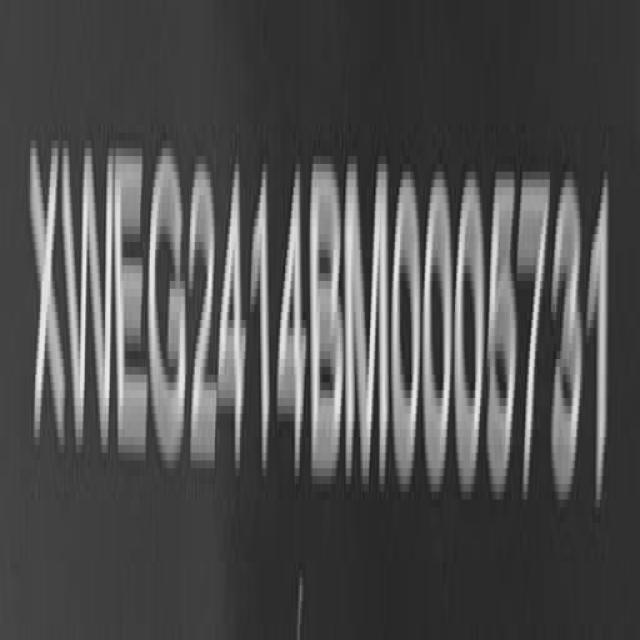0: (392, 155, 424, 495), (451, 166, 483, 505), (422, 163, 454, 501)
1: (589, 168, 615, 520), (250, 155, 274, 487)
2: (190, 147, 220, 483)
3: (552, 168, 584, 511)
4: (277, 153, 306, 490), (218, 152, 245, 484)
5: (489, 159, 519, 508)
7: (520, 159, 550, 511)
B: (310, 142, 346, 503)
E: (115, 130, 148, 472)
G: (146, 137, 186, 476)
M: (345, 148, 391, 494)
W: (65, 121, 118, 470)
X: (30, 124, 68, 462)
